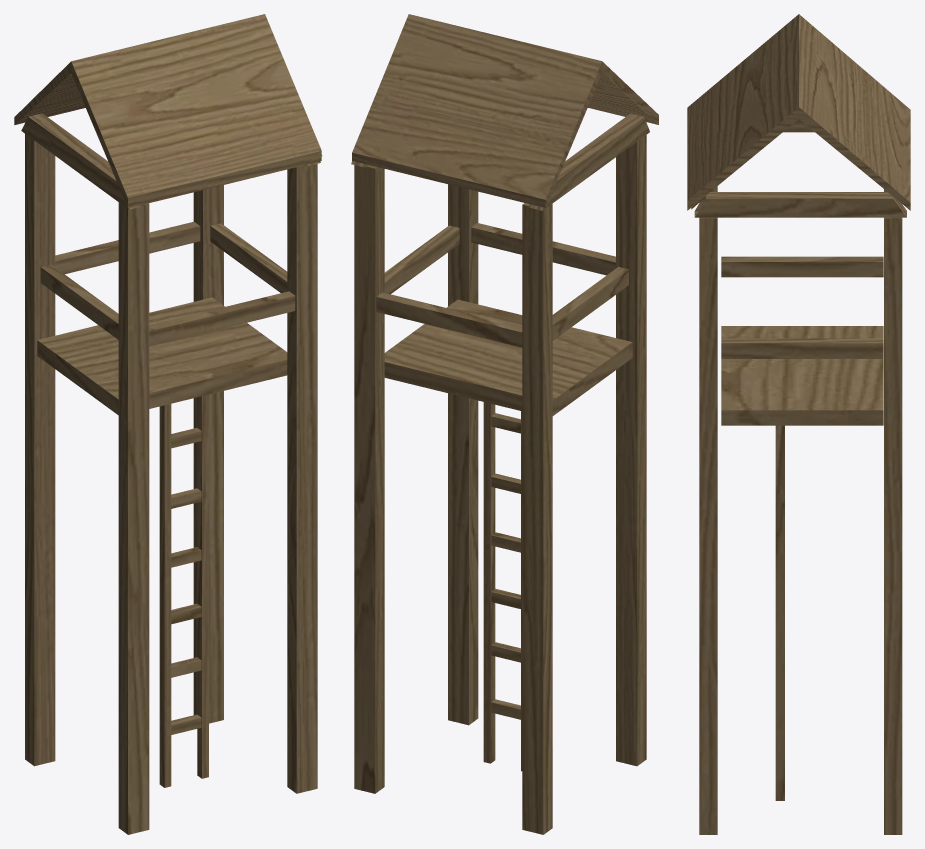
File: outpost.glb
3 renders of one model, left to right at view 1: azimuth 30°, elevation 25°; view 2: azimuth 150°, elevation 25°; view 3: azimuth 270°, elevation 25°, orthographic.
Visible parts, largest first — view 1: Cube.007; view 2: Cube.007; view 3: Cube.007.
Boxes of the visible parts, x1,y1,x2,y2 form: Cube.007: (14,14,322,834); Cube.007: (351,14,658,834); Cube.007: (687,14,910,834).
Bounding box in the file's own units: 0.75 × 2.69 × 0.75.
Materials: 2 (2 with a texture image).
